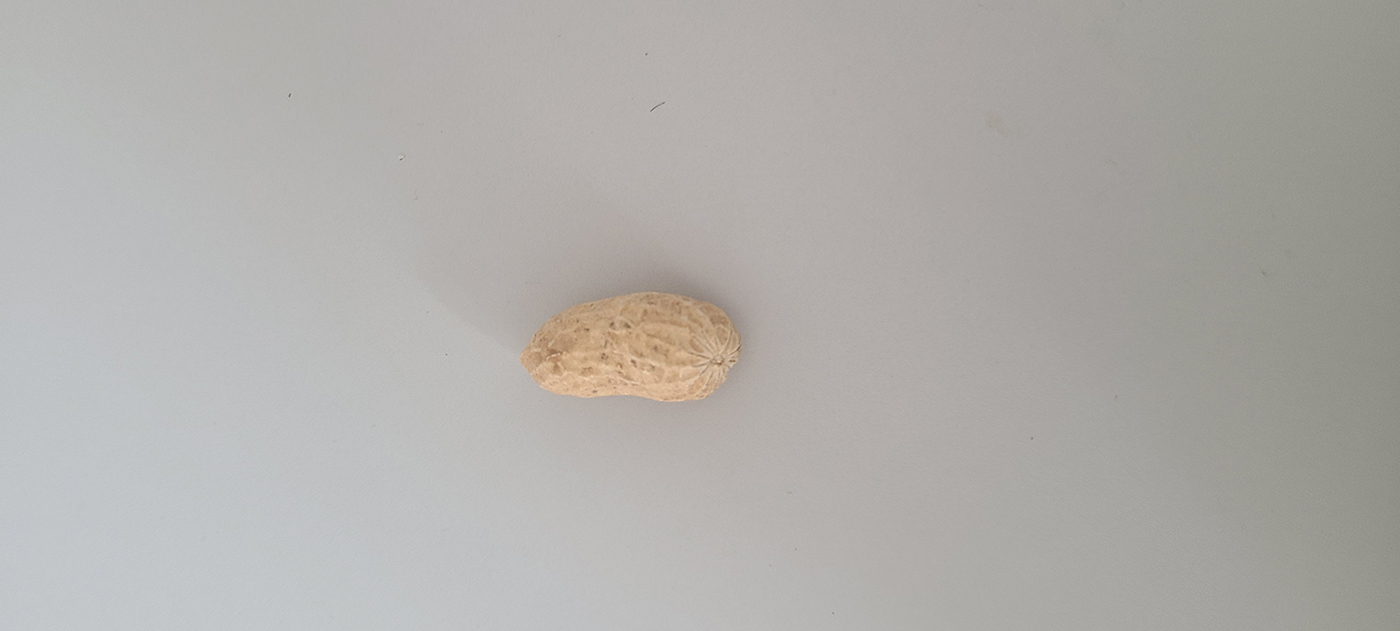h: (521, 285, 741, 403)
